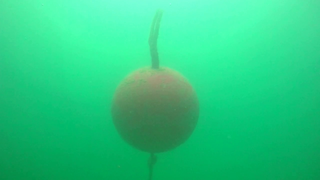buoy: (109, 68, 200, 154)
